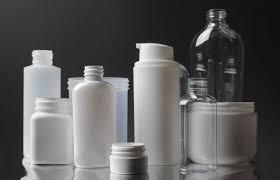Container for household chemicals: (20, 11, 280, 179)
